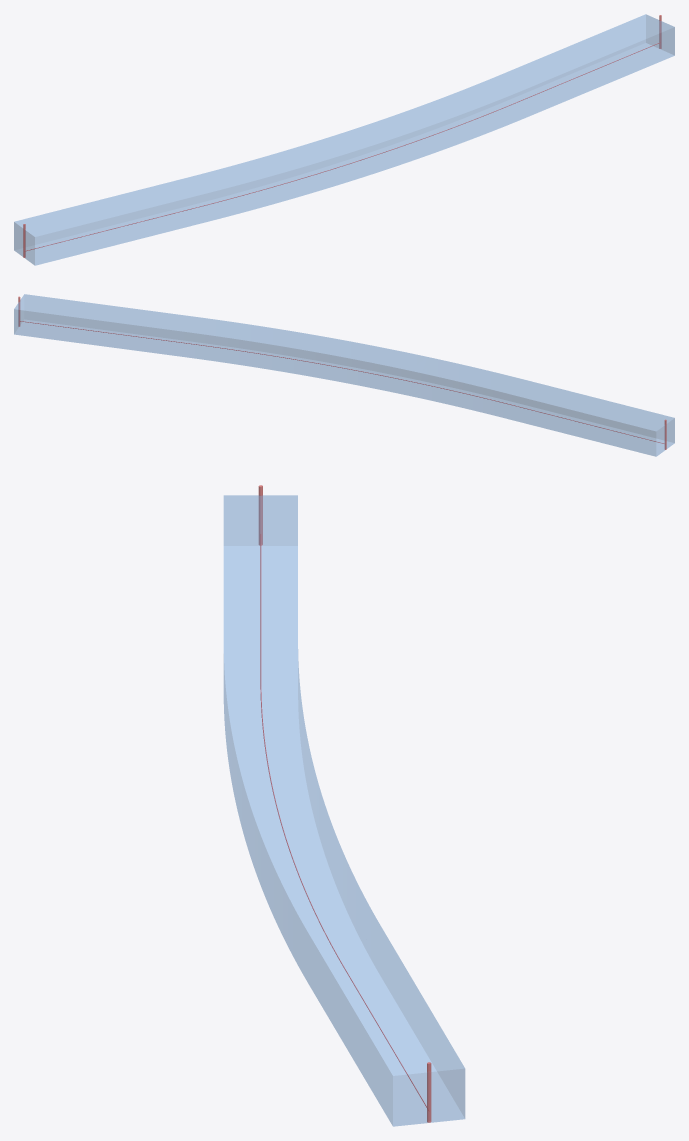
Rendered from tunnel_LOD100.glb.
3 renders of one model, top to bottom at view 1: azimuth 30°, elevation 25°; view 2: azimuth 150°, elevation 25°; view 3: azimuth 270°, elevation 25°, orthographic. The views are drawn at different scales.
Parts seen in each view (by area): view 1: 概略形状|トンネル位置ボックス, 線形|道路中心線形; view 2: 概略形状|トンネル位置ボックス, 線形|道路中心線形; view 3: 概略形状|トンネル位置ボックス.
Part boxes in pixels (bbox=[...]): 概略形状|トンネル位置ボックス: bbox=[14, 14, 674, 265]; 線形|道路中心線形: bbox=[25, 43, 659, 251]; 概略形状|トンネル位置ボックス: bbox=[14, 294, 674, 456]; 線形|道路中心線形: bbox=[20, 321, 664, 443]; 概略形状|トンネル位置ボックス: bbox=[223, 495, 465, 1126].
Size of the model in its own units: 239 by 13.6 by 41.06.
